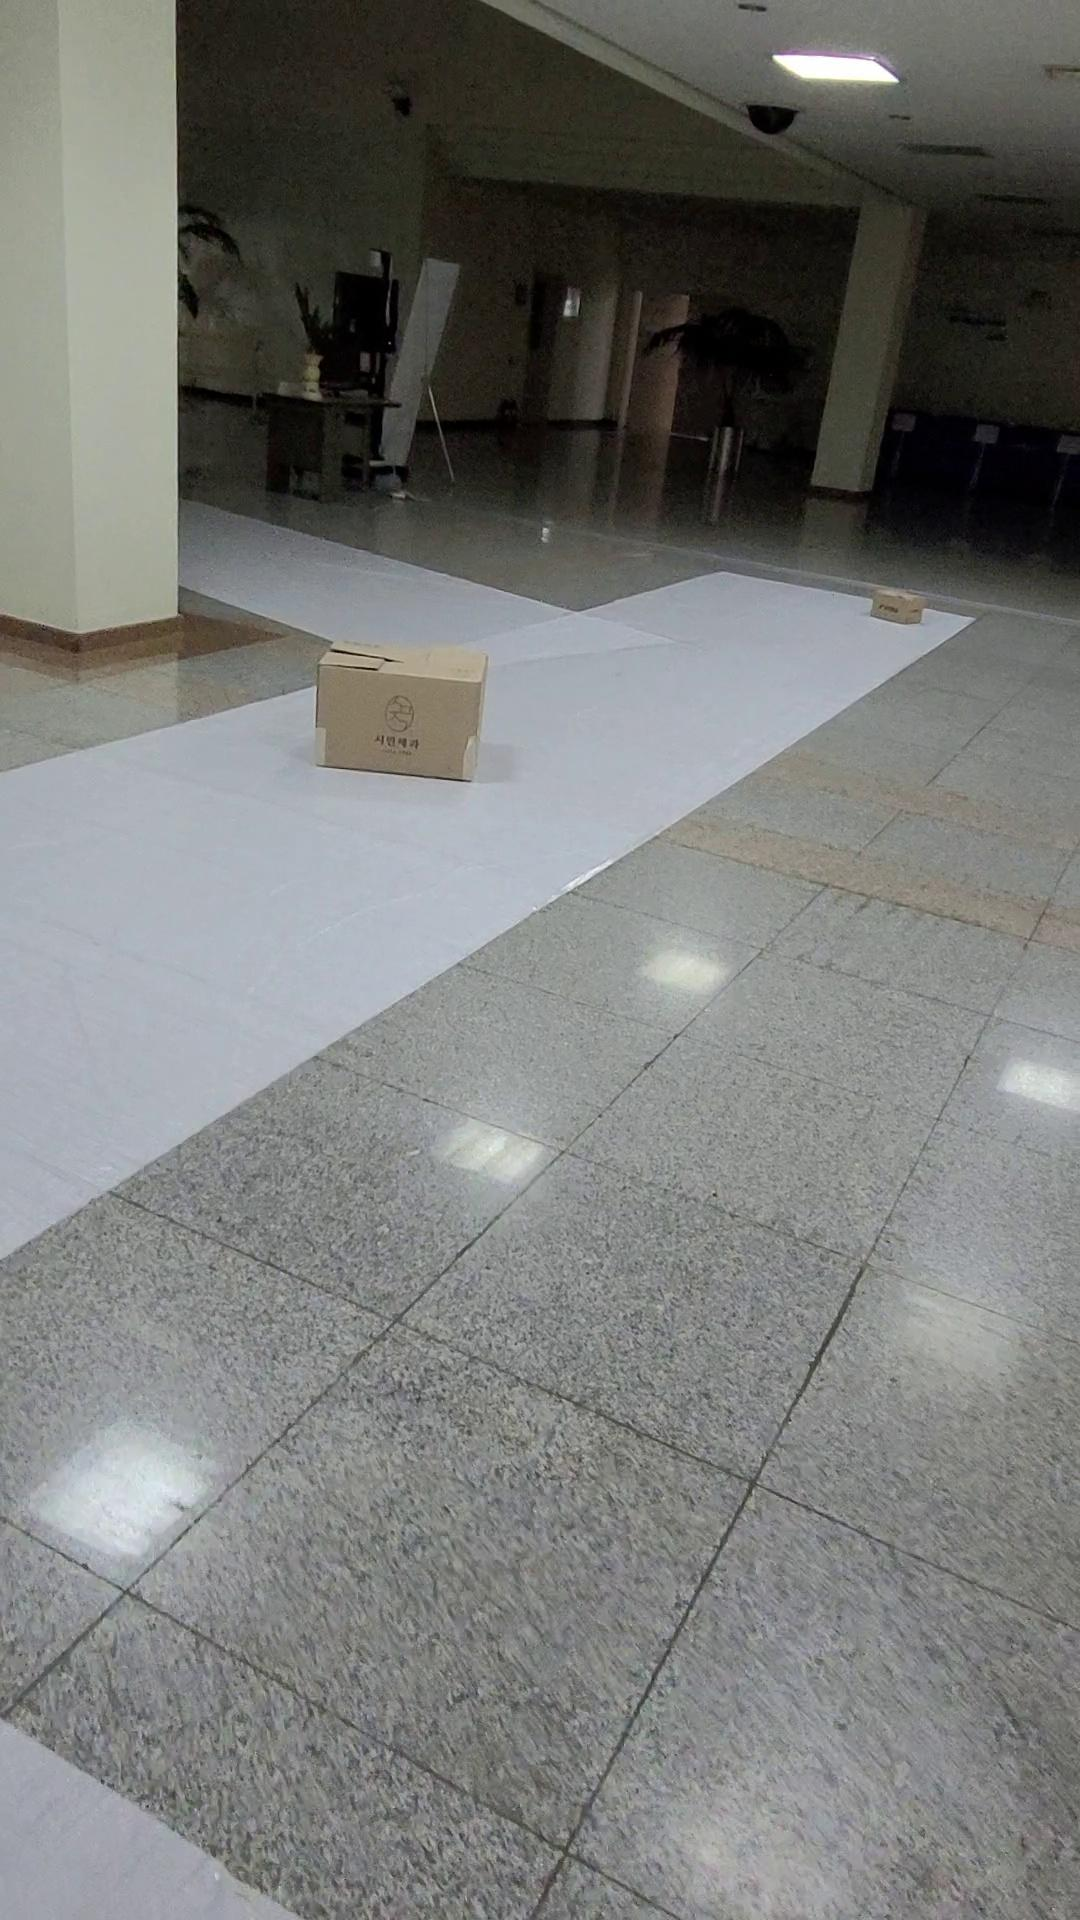Box: (276, 611, 525, 804), (851, 574, 986, 663)
